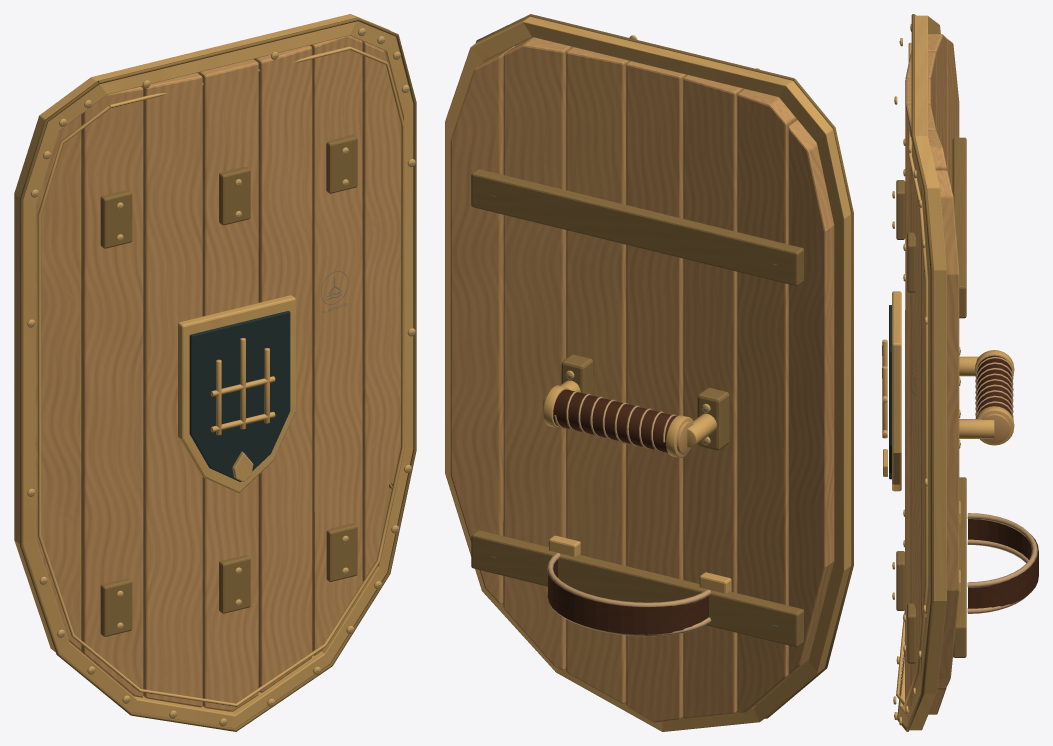
Rendered from long.glb.
3 renders of one model, left to right at view 1: azimuth 30°, elevation 25°; view 2: azimuth 150°, elevation 25°; view 3: azimuth 270°, elevation 25°, orthographic. The views are drawn at different scales.
Visible parts, largest first — view 1: Render_long; view 2: Render_long; view 3: Render_long.
Part boxes in pixels (x1,y1,x2,y2): Render_long: (14, 14, 416, 731); Render_long: (445, 14, 853, 731); Render_long: (882, 14, 1038, 731).
Size of the model in its own units: 0.4433 by 0.7231 by 0.1589.
9 materials, 9 textured.
